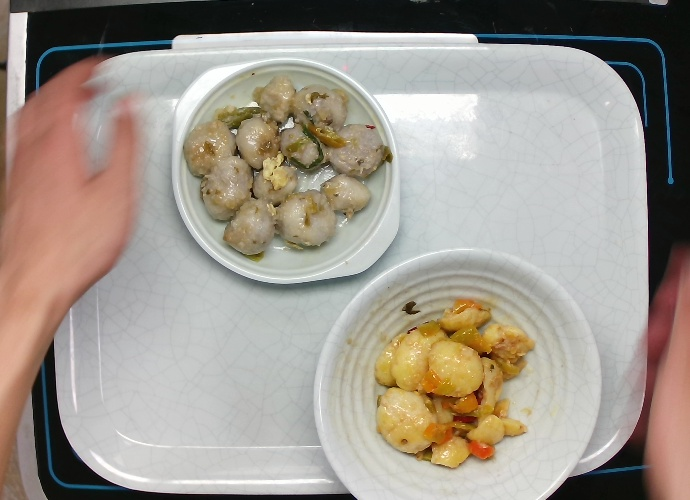JYsf-Shuang_Er_Pan: (162, 57, 404, 289)
JYsf-Xiao_Tang_Wan: (307, 242, 605, 500)
